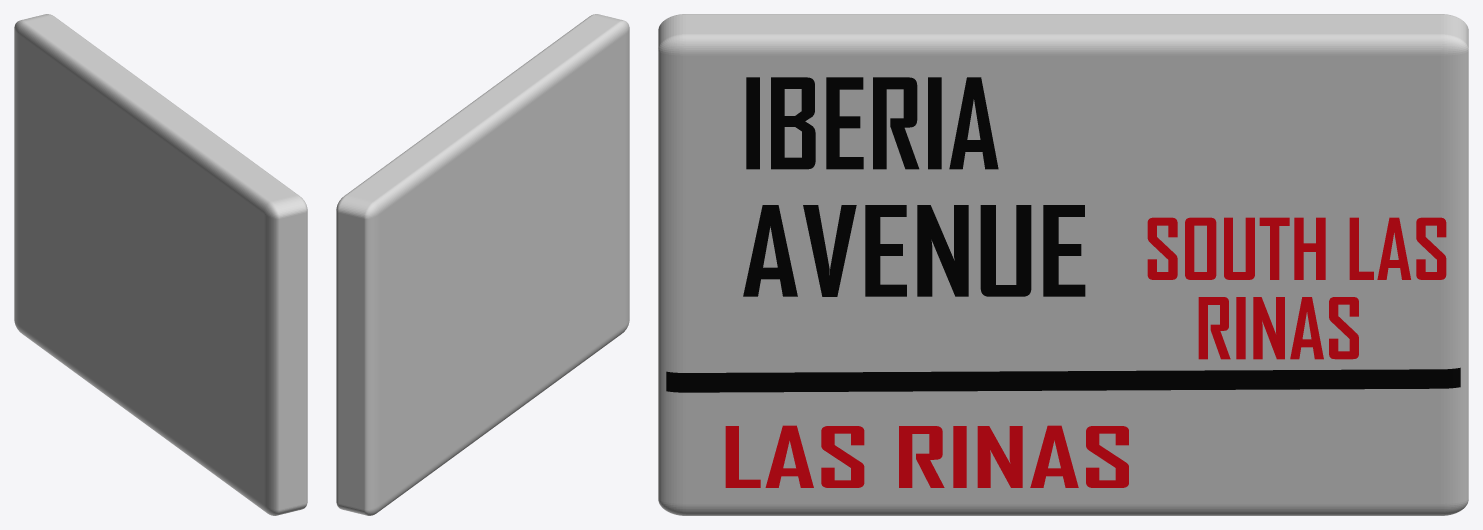
File: uk_styled_street_sign_30.fbx
The picture shows the model from 3 angles, left to right: view 1: azimuth 30°, elevation 25°; view 2: azimuth 150°, elevation 25°; view 3: azimuth 270°, elevation 25°; orthographic projection. The views are drawn at different scales.
Parts seen in each view (by area): view 1: Cube; view 2: Cube; view 3: Cube, Text.001, Text, Text.002, Text.003, Text.004.
Boxes of the visible parts, x1,y1,x2,y2 form: Cube: (14, 14, 307, 515); Cube: (336, 14, 629, 515); Cube: (658, 14, 1468, 515); Text.001: (743, 205, 1085, 296); Text: (746, 77, 998, 169); Text.002: (725, 425, 1128, 487); Text.003: (1147, 217, 1446, 279); Text.004: (1198, 297, 1358, 359).
Bounding box in the file's own units: 1.63 × 11.91 × 18.18.
